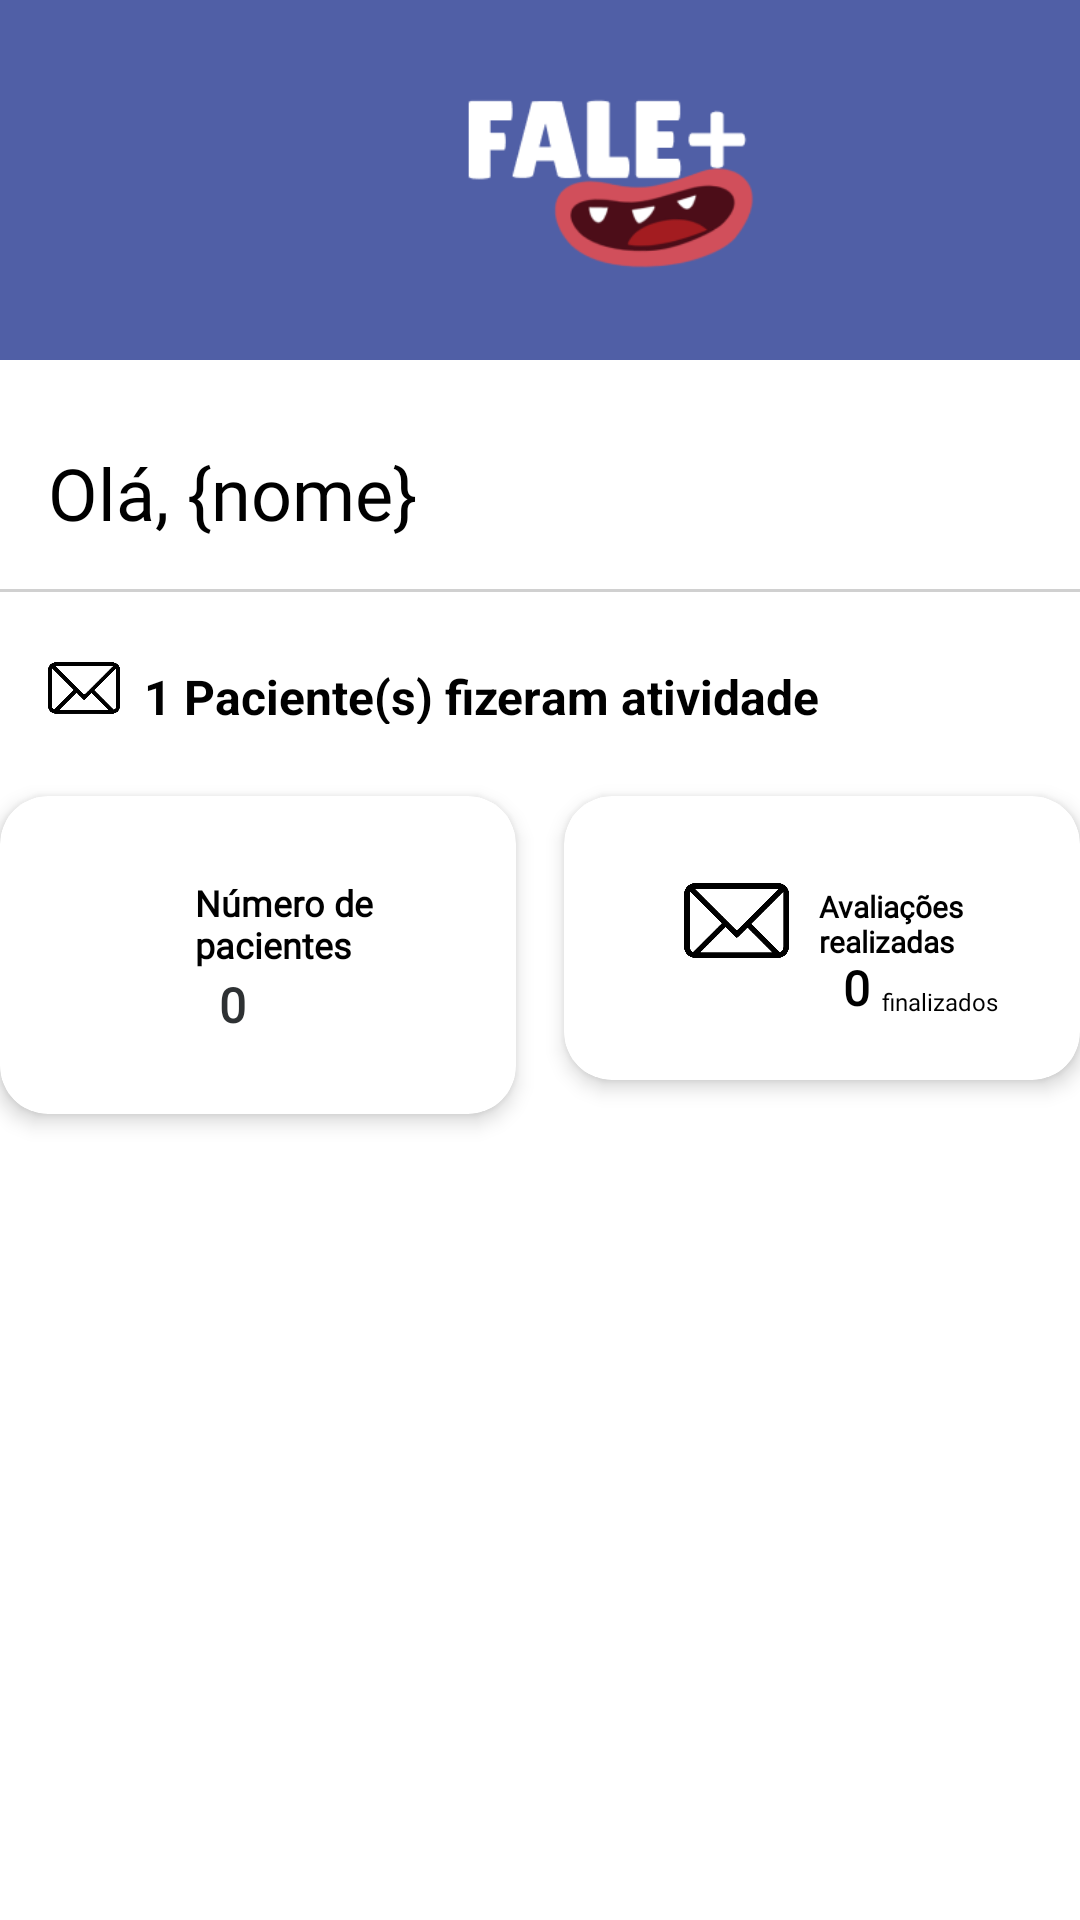

Named icons in this screenshot (1080 x 1920) and their bounding boxes, (x1, y1, x2, y2):
email dialog: (48, 662, 120, 714), (684, 883, 789, 958)
